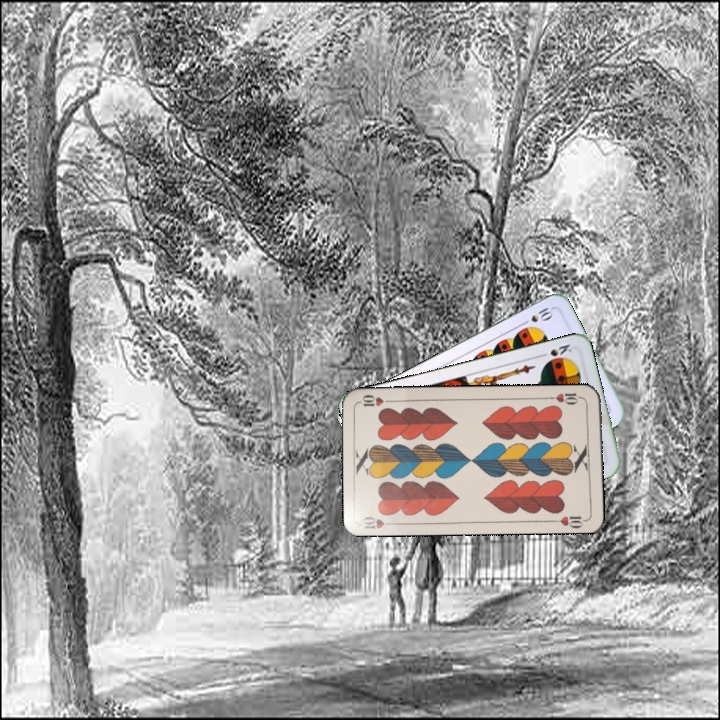H10: (545, 388, 586, 407), (358, 512, 399, 531)
S10: (517, 303, 556, 328)
SK: (535, 340, 574, 360)
